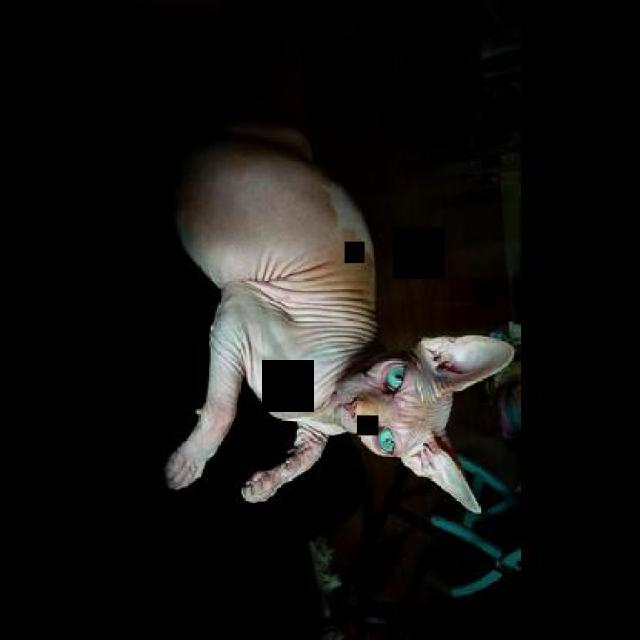unauthorized: (161, 121, 517, 514)
